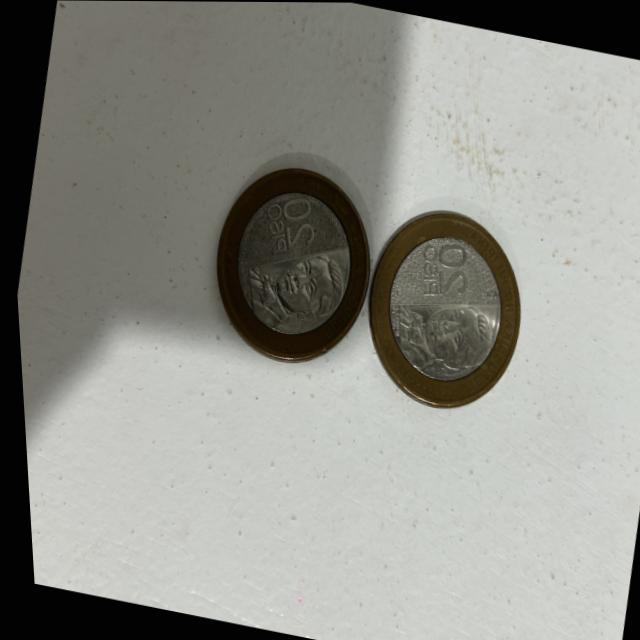20_New_Front: (253, 188, 322, 264), (404, 231, 474, 305)
